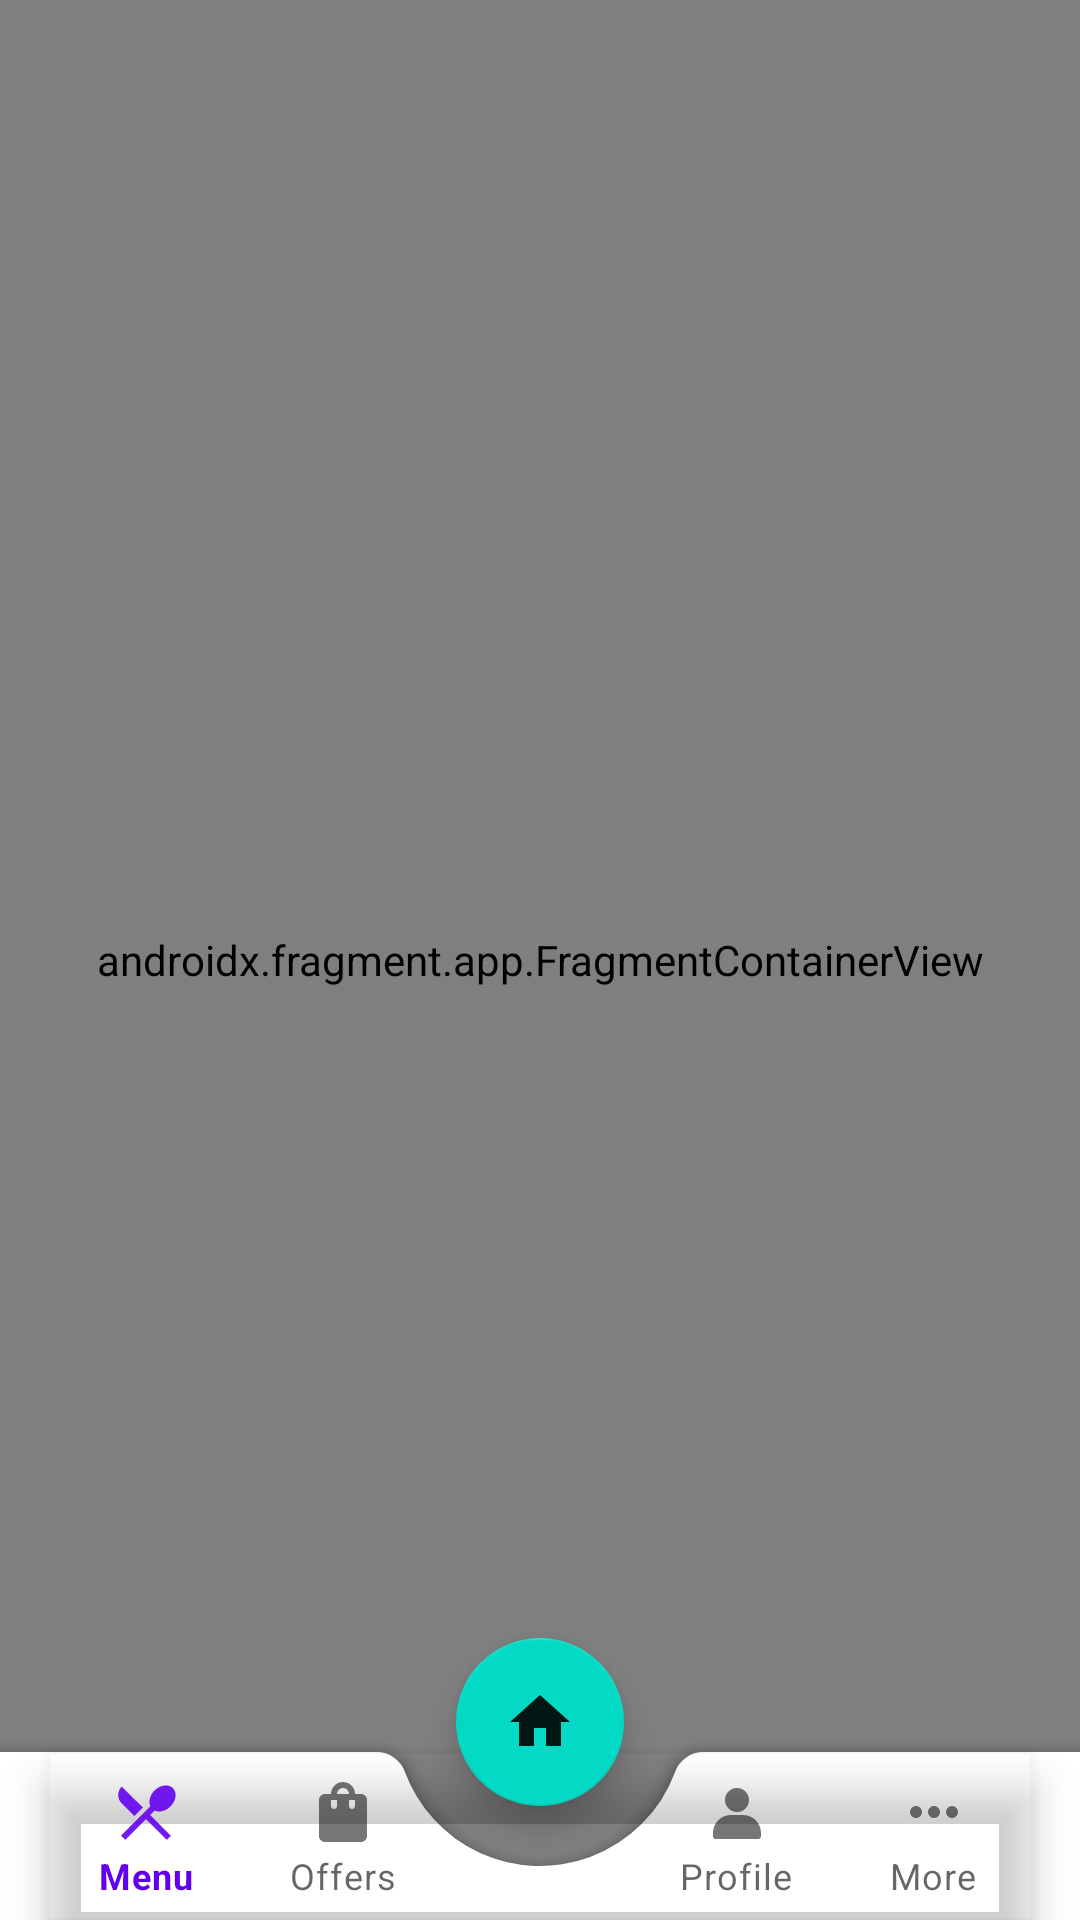

Icon bounding boxes for this 1080 x 1920 phone screenshot, format (x1, y1, x2, y2):
home: (456, 1668, 624, 1824)
